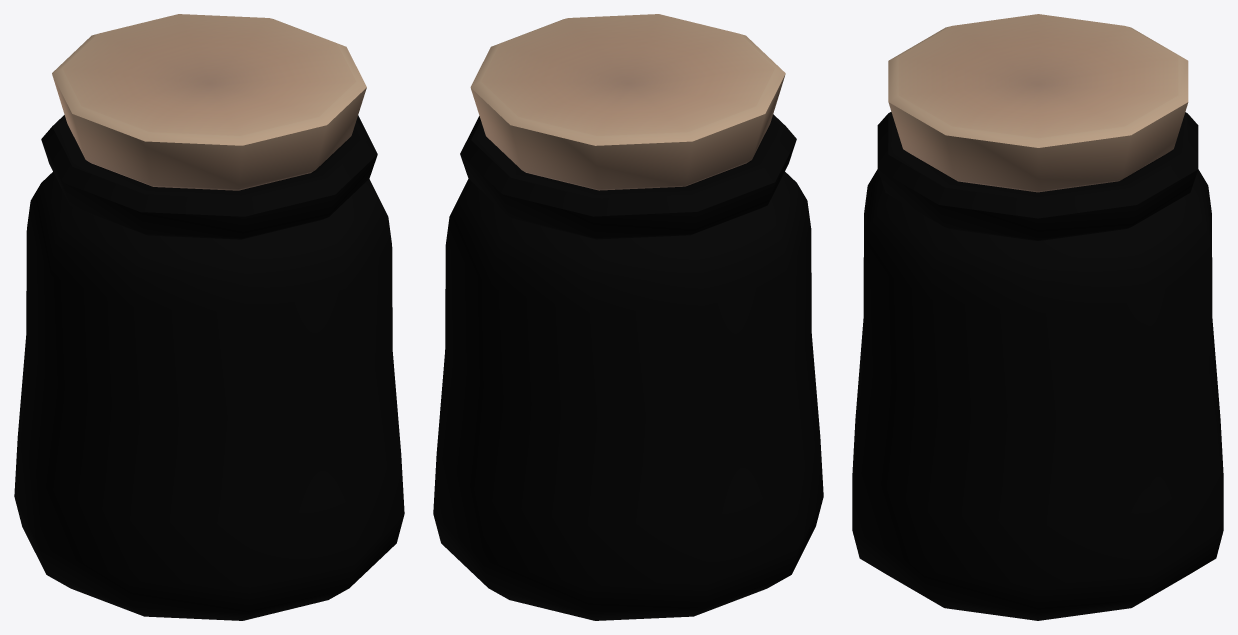
Rendered from jar of bugs.fbx.
The picture shows the model from 3 angles, left to right: view 1: azimuth 30°, elevation 25°; view 2: azimuth 150°, elevation 25°; view 3: azimuth 270°, elevation 25°; orthographic projection.
Visible parts, largest first — view 1: jar, lid; view 2: jar, lid; view 3: jar, lid.
Boxes of the visible parts, <box> form: jar: <box>14,115,404,620</box>; lid: <box>52,14,366,190</box>; jar: <box>433,114,823,620</box>; lid: <box>470,14,785,190</box>; jar: <box>852,112,1223,620</box>; lid: <box>888,14,1188,192</box>.
Size of the model in its own units: 171 by 230 by 162.
